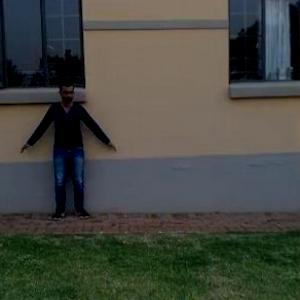land: (20, 80, 117, 229)
